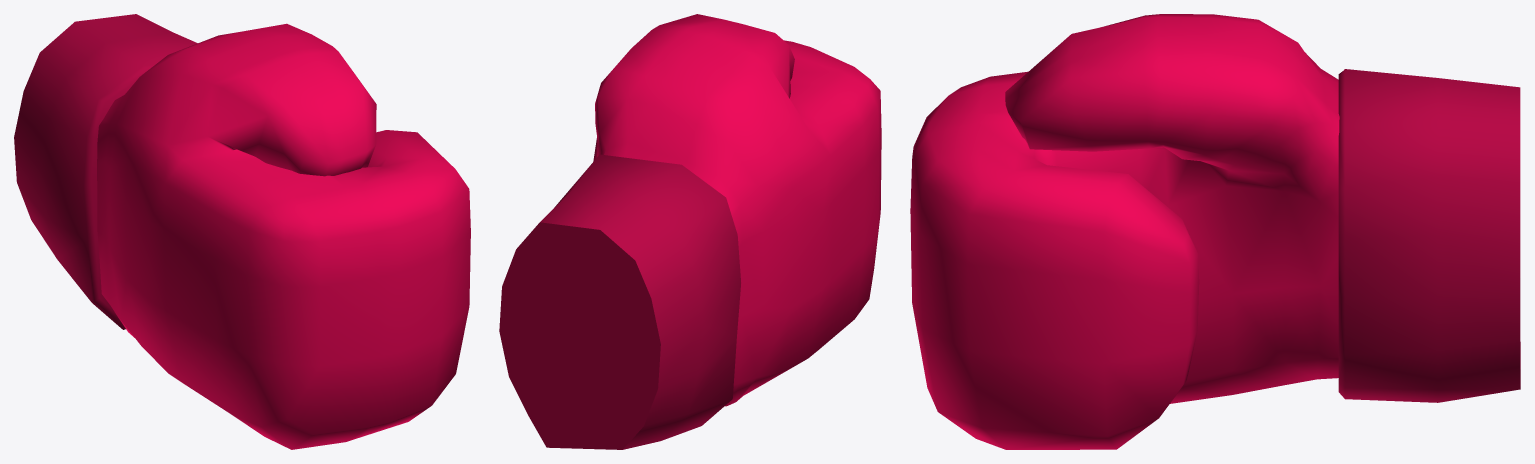
File: rightglove.gltf
3 renders of one model, left to right at view 1: azimuth 30°, elevation 25°; view 2: azimuth 150°, elevation 25°; view 3: azimuth 270°, elevation 25°, orthographic. The views are drawn at different scales.
Visible parts, largest first — view 1: Hand, Band; view 2: Hand, Band; view 3: Hand, Band.
Part boxes in pixels (x1,y1,x2,y2): Hand: (97,23,470,449); Band: (14,14,197,329); Hand: (593,14,881,406); Band: (499,154,740,449); Hand: (910,14,1339,449); Band: (1338,69,1520,402).
Bounding box in the file's own units: 0.1122 × 0.1399 × 0.202.
1 material, 1 textured.
